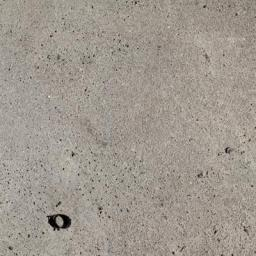FOD: (45, 208, 75, 236)
